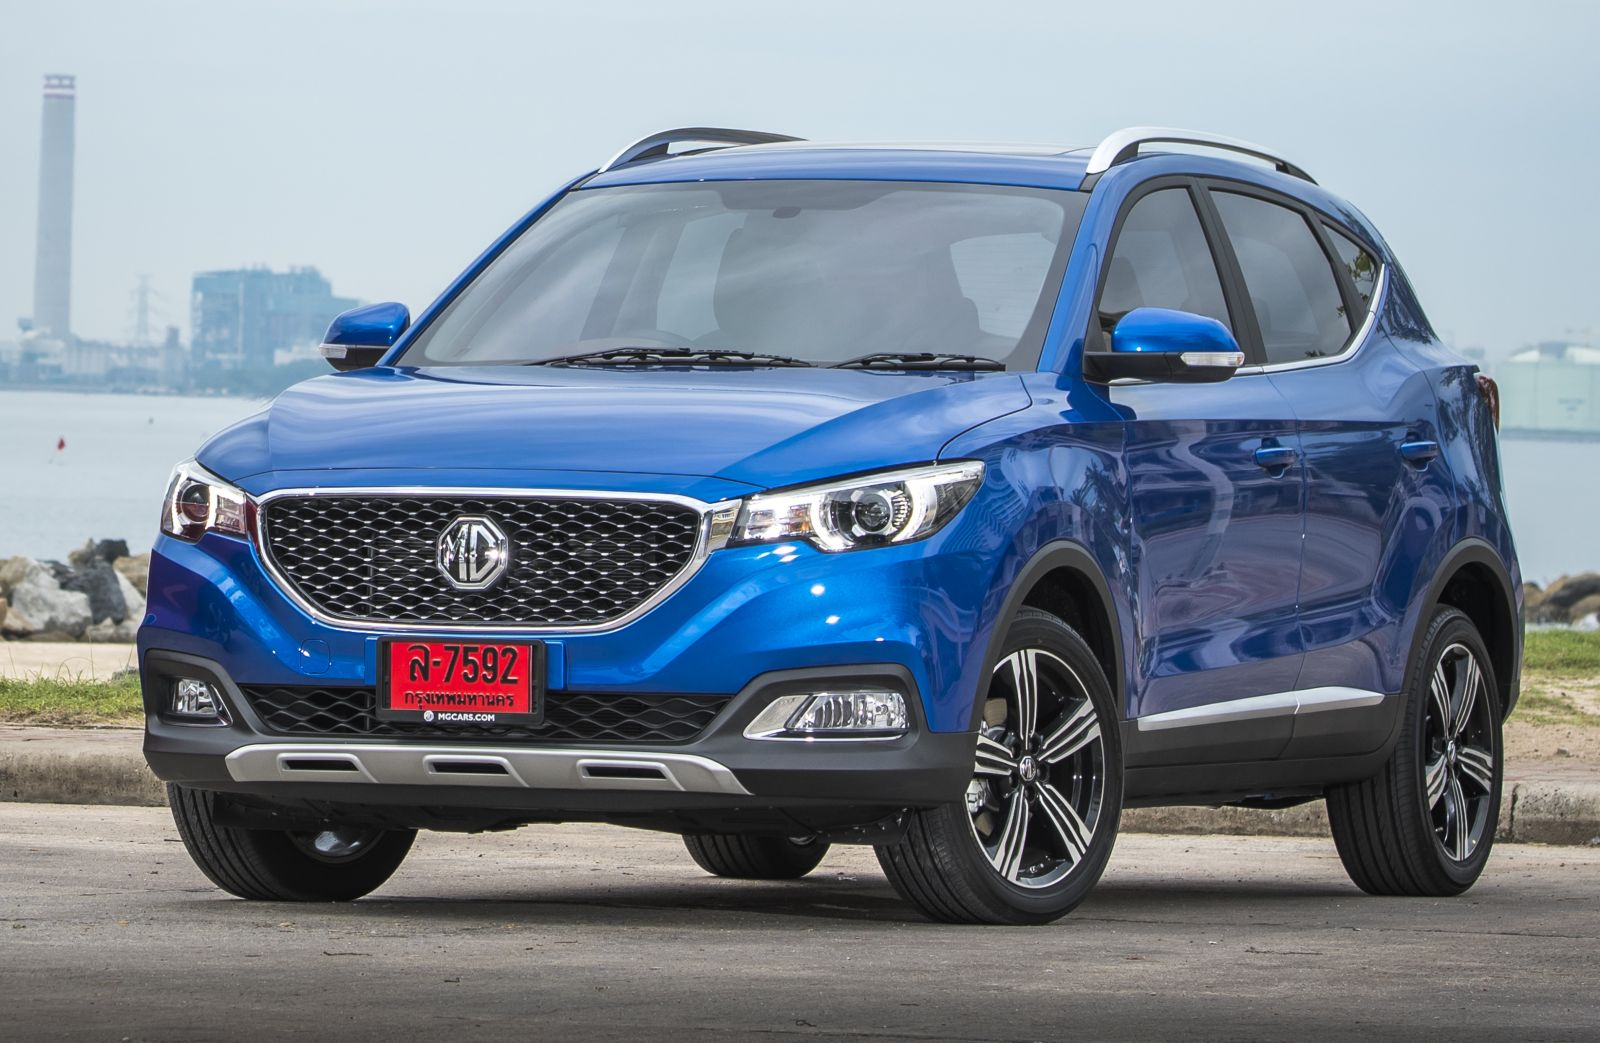pickup: (135, 121, 1529, 929)
